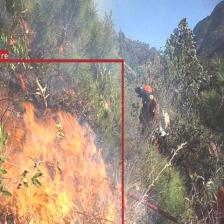fire: (0, 59, 123, 224)
